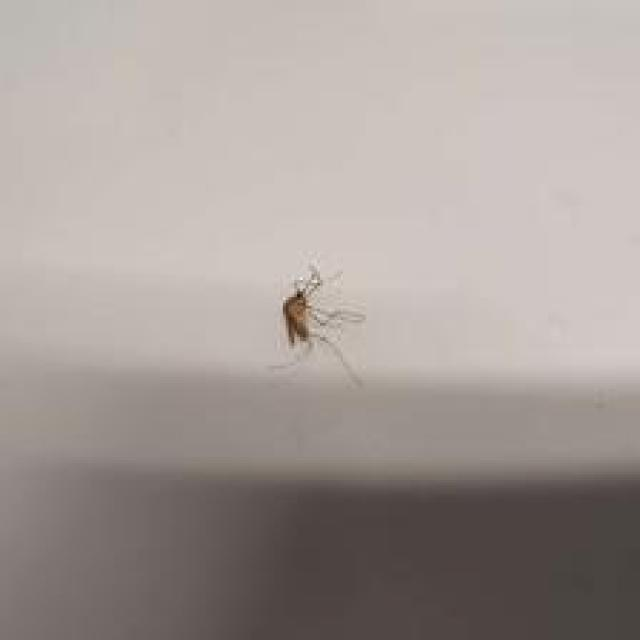Culex: (267, 263, 367, 388)
